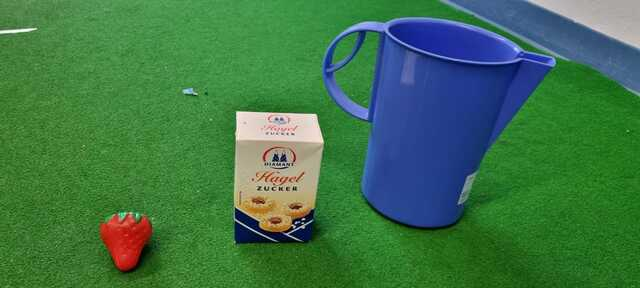004_sugar_box: (228, 106, 328, 246)
012_strawberry: (97, 208, 157, 273)
019_pitcher_base: (323, 15, 562, 231)
